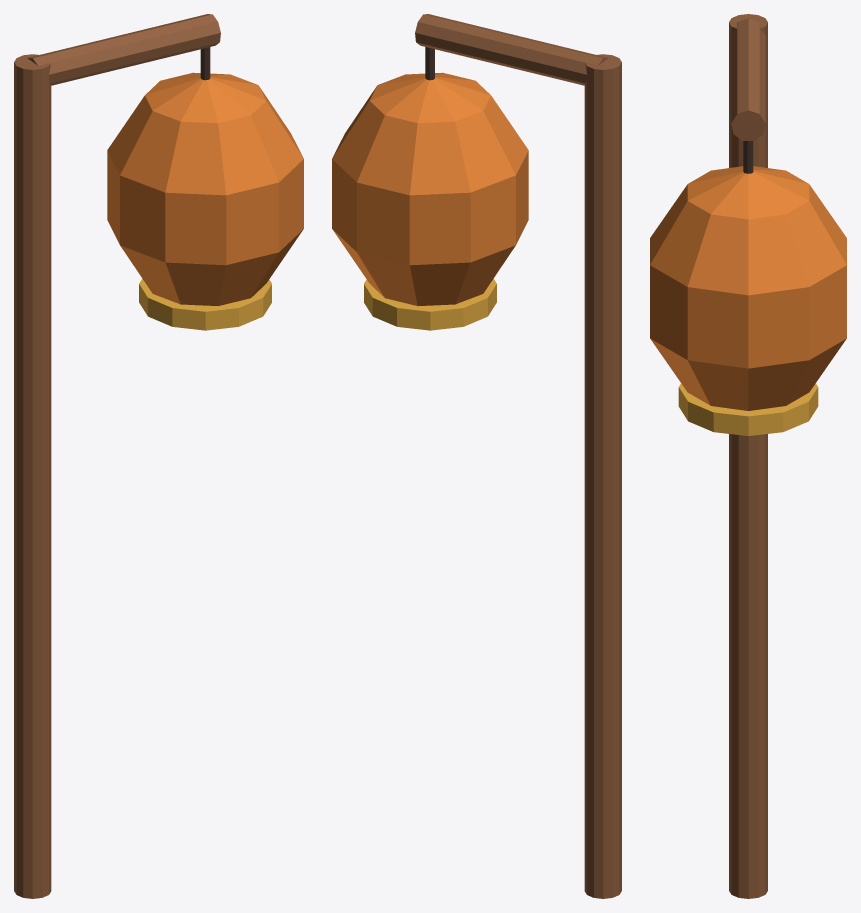
The model's file is 089_hanging_lantern.glb.
The picture shows the model from 3 angles, left to right: view 1: azimuth 30°, elevation 25°; view 2: azimuth 150°, elevation 25°; view 3: azimuth 270°, elevation 25°; orthographic projection. The views are drawn at different scales.
Parts seen in each view (by area): view 1: Hanging lantern; view 2: Hanging lantern; view 3: Hanging lantern.
Part boxes in pixels (box(x1,y1,x2,y2)): Hanging lantern: box(14, 14, 303, 898); Hanging lantern: box(332, 14, 621, 898); Hanging lantern: box(650, 14, 846, 898).
Size of the model in its own units: 0.7628 by 2.21 by 0.4523.
